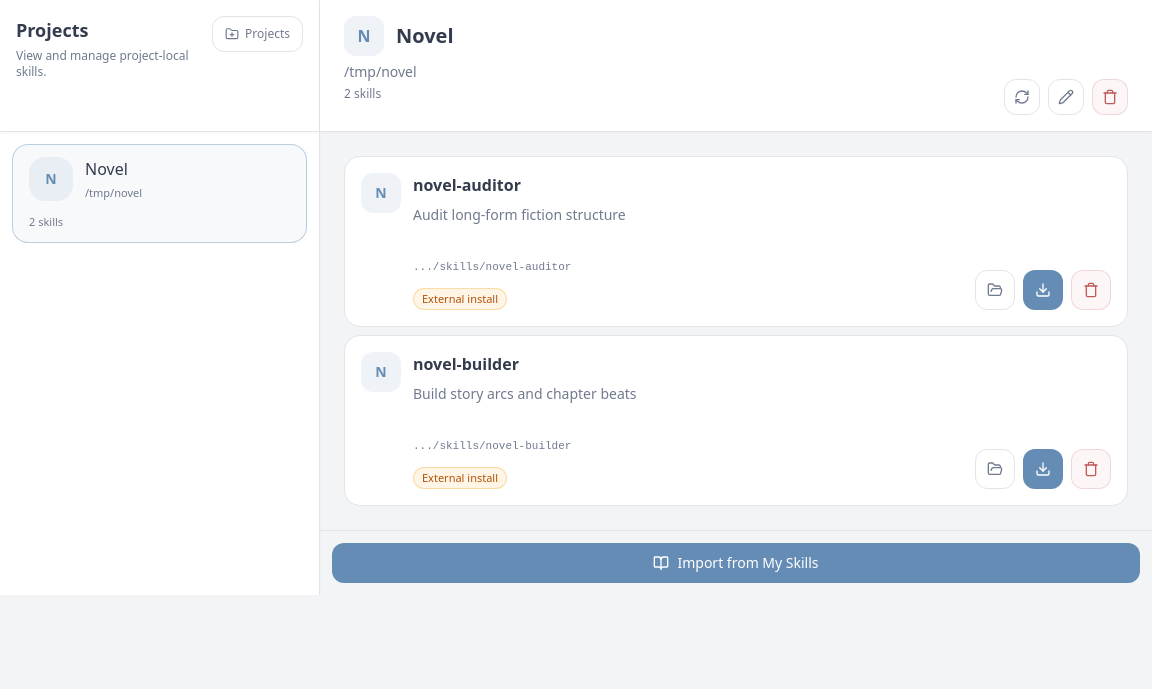
Test: SkillProjectsView › does not treat same-name project skills as imported when paths differ
The width and height of the screenshot is (1152, 689).
Click the button "novel-auditor": {"x": 381, "y": 193} [361,173,903,310]
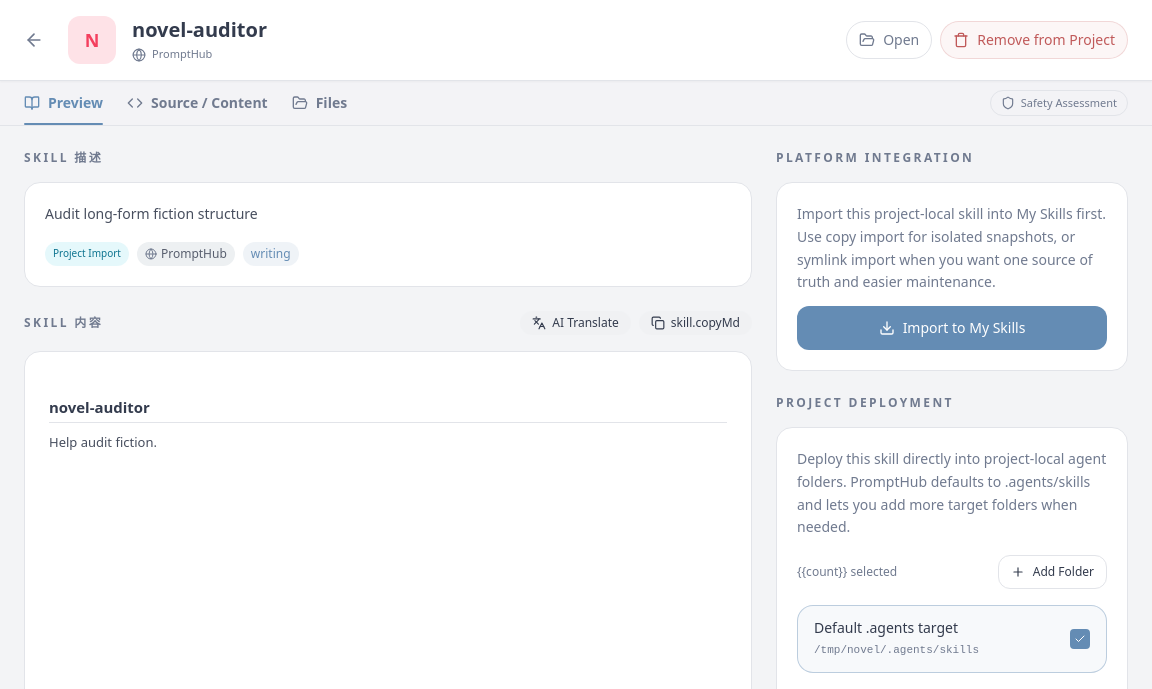
Now the heading "Platform Integration" is shown, box [776,149,974,166]
Now the button "Import to My Skills" is shown, box [797,306,1107,350]
